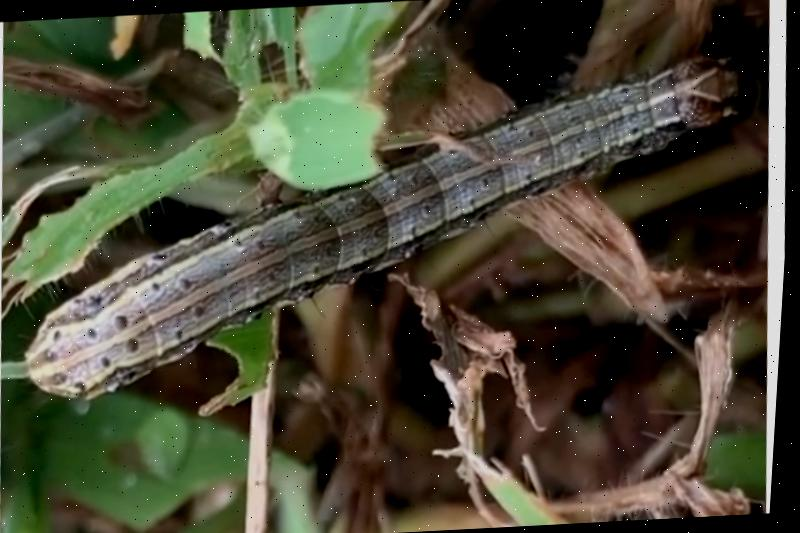fall-armyworm: (29, 54, 760, 400)
